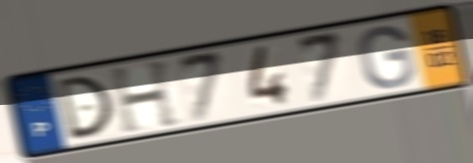4: (247, 42, 292, 109)
7: (296, 27, 345, 107), (177, 46, 226, 126)
D: (53, 73, 116, 144)
G: (356, 23, 418, 91)
H: (107, 56, 184, 137)
